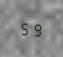five: (19, 18, 30, 36)
nine: (31, 20, 42, 37)
